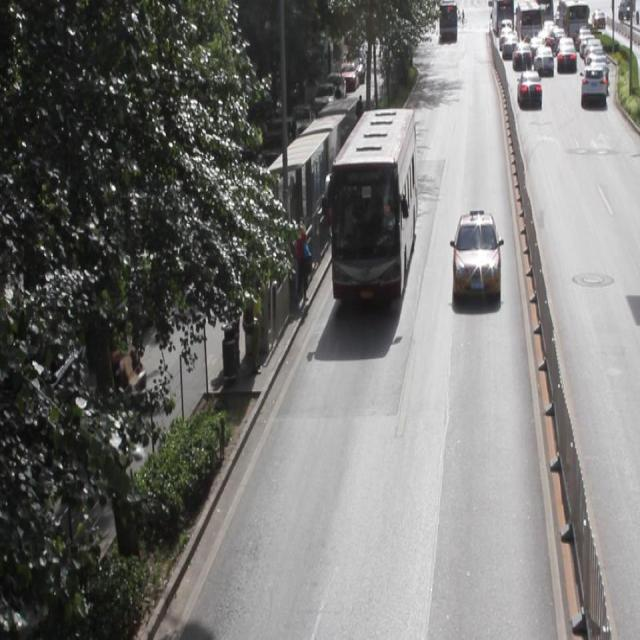car: (451, 210, 498, 300)
van: (330, 106, 414, 298)
